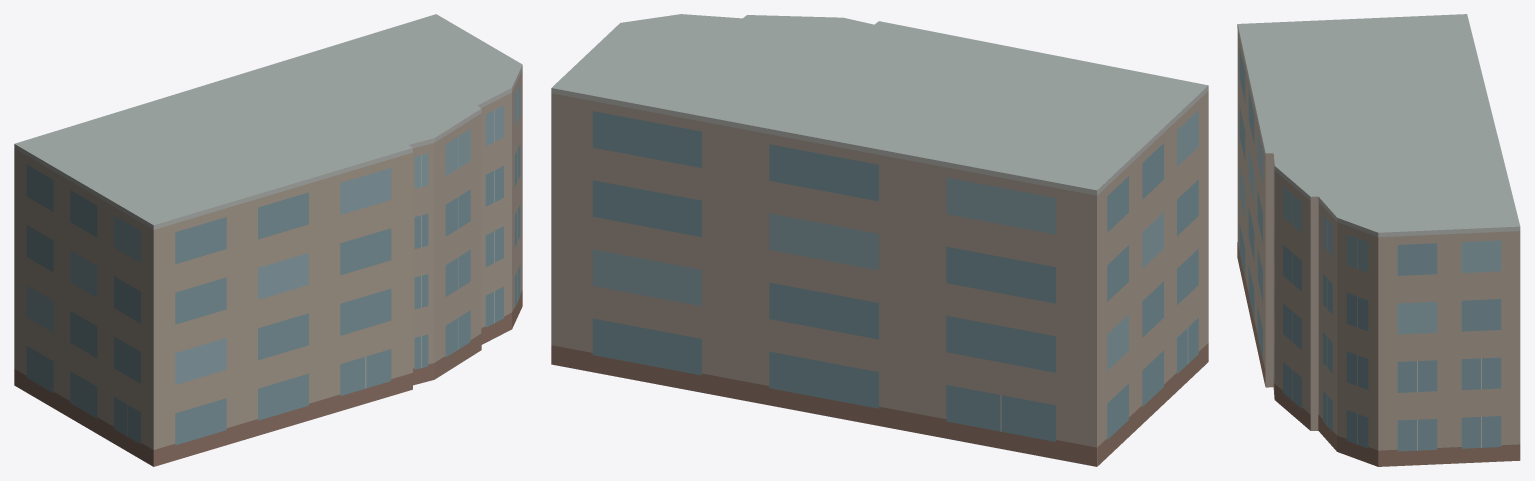
File: survey-upis-32916491.glb
3 renders of one model, left to right at view 1: azimuth 30°, elevation 25°; view 2: azimuth 150°, elevation 25°; view 3: azimuth 270°, elevation 25°, orthographic. The views are drawn at different scales.
Parts seen in each view (by area): view 1: survey-upis-32916491.tmp; view 2: survey-upis-32916491.tmp; view 3: survey-upis-32916491.tmp.
Boxes of the visible parts, bbox=[...] form: survey-upis-32916491.tmp: bbox=[14, 14, 522, 466]; survey-upis-32916491.tmp: bbox=[551, 14, 1208, 466]; survey-upis-32916491.tmp: bbox=[1237, 14, 1520, 466].
Bounding box in the file's own units: 25.66 × 12.8 × 14.02.
